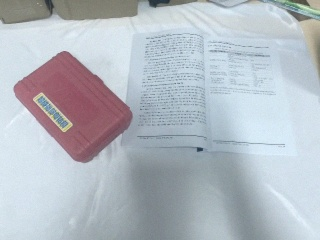box: (11, 48, 135, 165)
